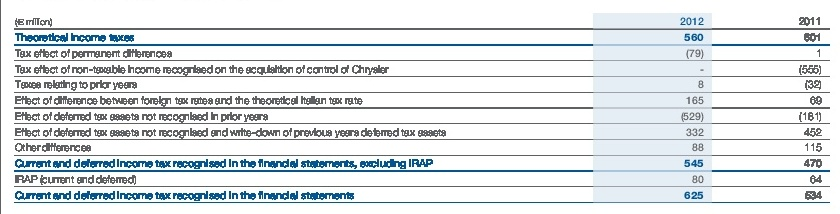table: (0, 0, 840, 214)
